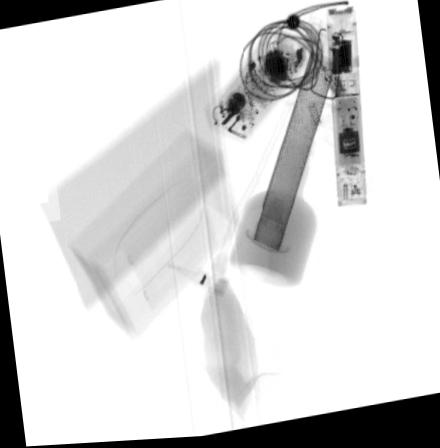Baton: (322, 11, 368, 213)
